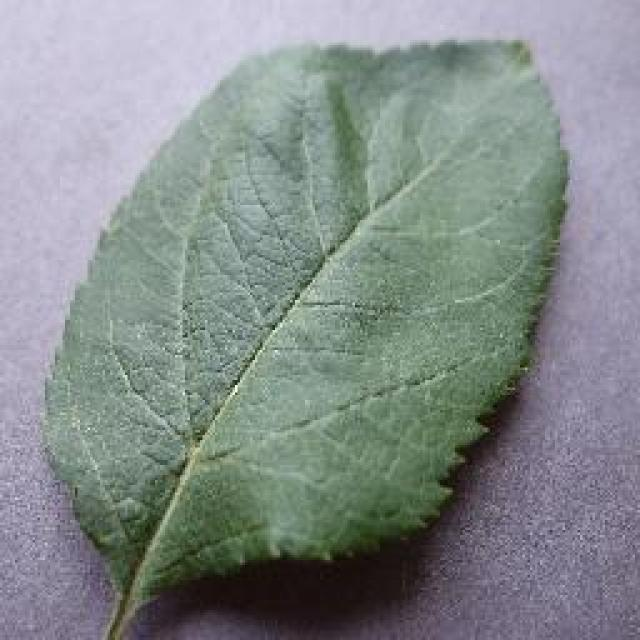apple healthy: (38, 32, 572, 638)
